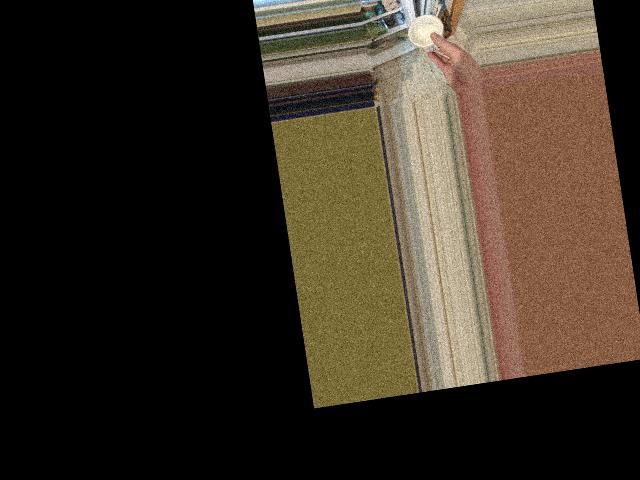cotage: (409, 10, 450, 57)
